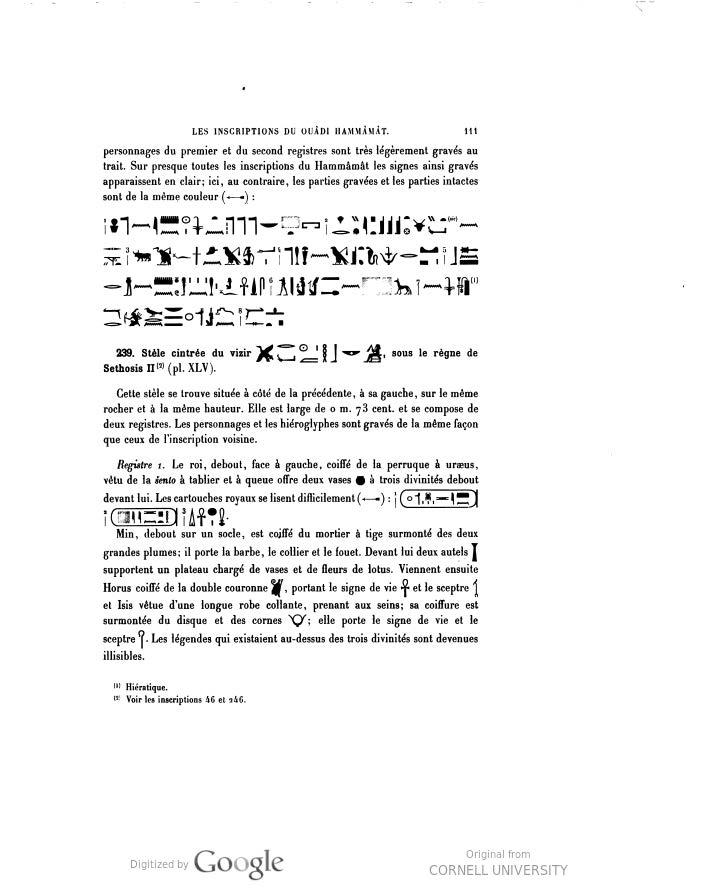circle: (82, 503, 203, 530), (393, 484, 485, 518)
